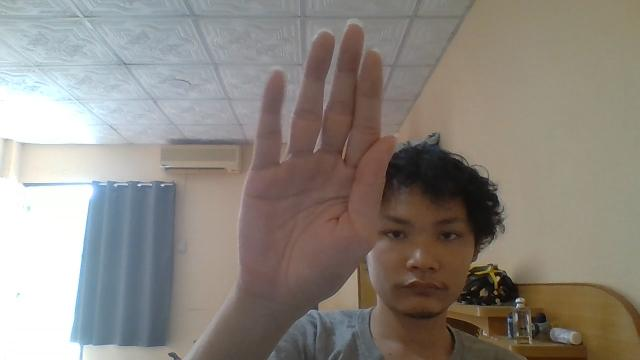Stop: (236, 20, 397, 308)
